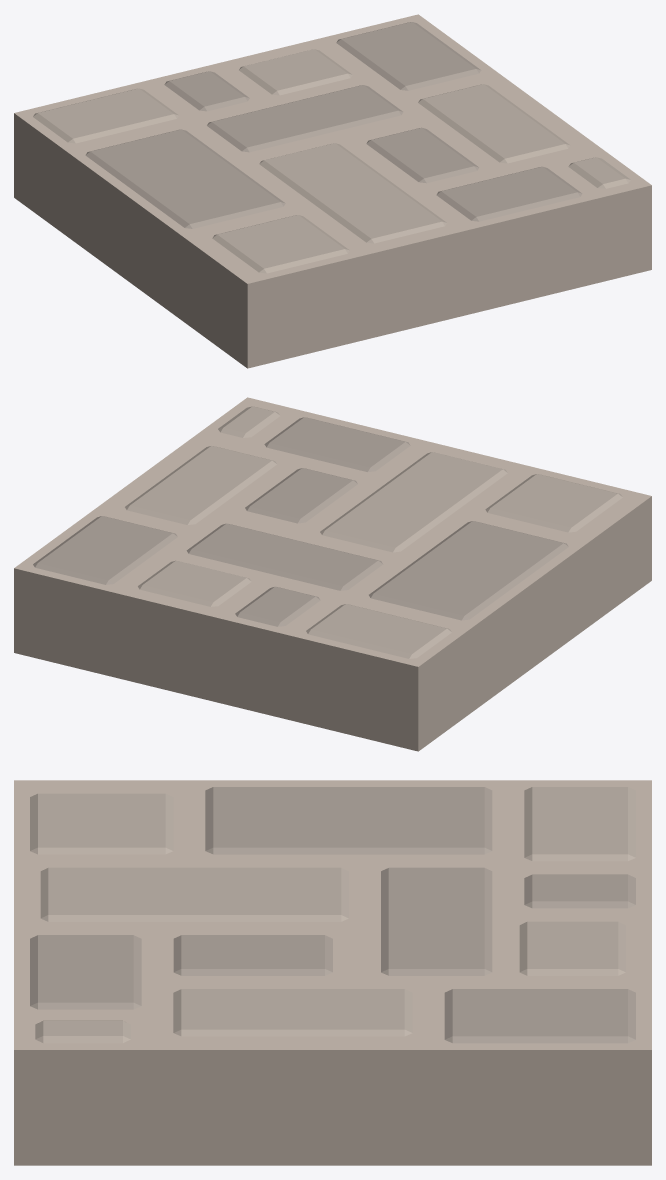
Rendered from Stone_Floor_2.glb.
3 renders of one model, top to bottom at view 1: azimuth 30°, elevation 25°; view 2: azimuth 150°, elevation 25°; view 3: azimuth 270°, elevation 25°, orthographic. The views are drawn at different scales.
Visible parts, largest first — view 1: Stone_Floor_2; view 2: Stone_Floor_2; view 3: Stone_Floor_2.
Boxes of the visible parts, x1,y1,x2,y2 form: Stone_Floor_2: (14,14,651,368); Stone_Floor_2: (14,397,651,751); Stone_Floor_2: (14,780,651,1165).
Size of the model in its own units: 0.528 by 0.1089 by 0.528.
